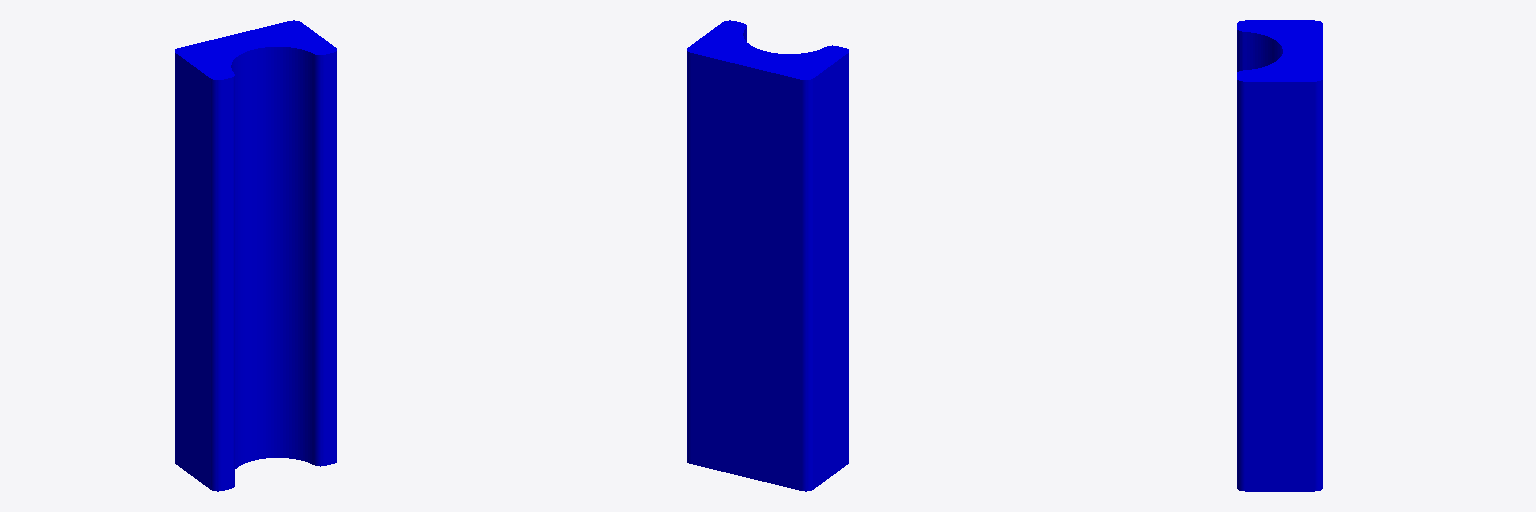
robot.urdf — board2_block15:
<?xml version="1.0"?>
<robot name="board2_block15">
    <link name="board2_block15">
        <visual>
            <origin xyz="0 0 0 " rpy=" 0 0 0"/>
            <geometry>
                <mesh filename="../meshes/SIMO_Board2_Block15.stl" scale="0.001 0.001 0.001"/>
            </geometry>
            <material name="red">
                <color rgba="0.0 0.0 1.0 1.0"/>
            </material>
        </visual>
        <collision>
            <origin xyz="0 0 0" rpy="0 0 0"/>
            <geometry>
                <mesh filename="../meshes/SIMO_Board2_Block15.stl" scale="0.001 0.001 0.001"/>
            </geometry>
        </collision>
    </link>
</robot>

--- Render facts (derived) ---
3 views of the same robot in one strip: view 1: azimuth 30°, elevation 25°; view 2: azimuth 150°, elevation 25°; view 3: azimuth 270°, elevation 25° (orthographic).
Model board2_block15 with 1 links and 0 joints (none), rooted at board2_block15, posed all joints at 0.
Links seen in each view (by area): view 1: board2_block15; view 2: board2_block15; view 3: board2_block15.
Link boxes in pixels (x1,y1,x2,y2): board2_block15: [175, 20, 336, 491]; board2_block15: [687, 20, 848, 491]; board2_block15: [1237, 20, 1322, 491].
Bounding box of the posed robot: 0.048 × 0.0288 × 0.15 m (x, y, z).
1 mesh visuals loaded from 1 distinct referenced files (1 ASCII STL).
